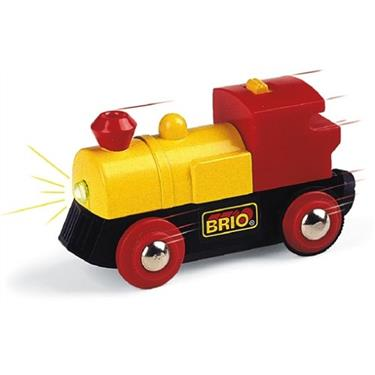brio: (56, 73, 352, 285)
